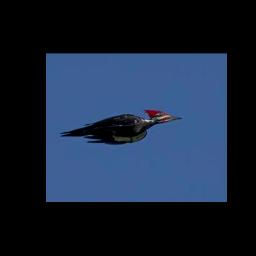Woodpecker: (59, 109, 182, 144)
